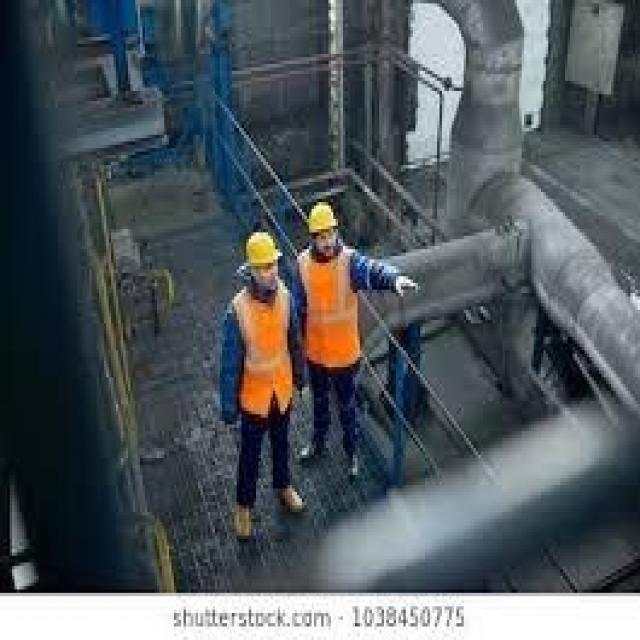helmet: (246, 230, 282, 264), (306, 200, 338, 234)
vest: (229, 272, 301, 420), (294, 243, 364, 374)
